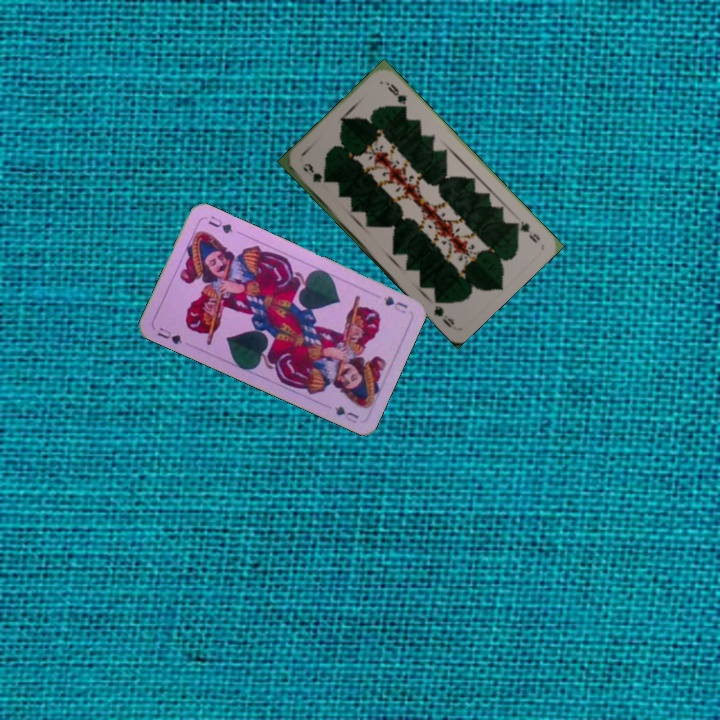G9: (509, 217, 543, 246), (299, 159, 324, 185)
GU: (153, 323, 185, 347), (379, 292, 410, 316)
